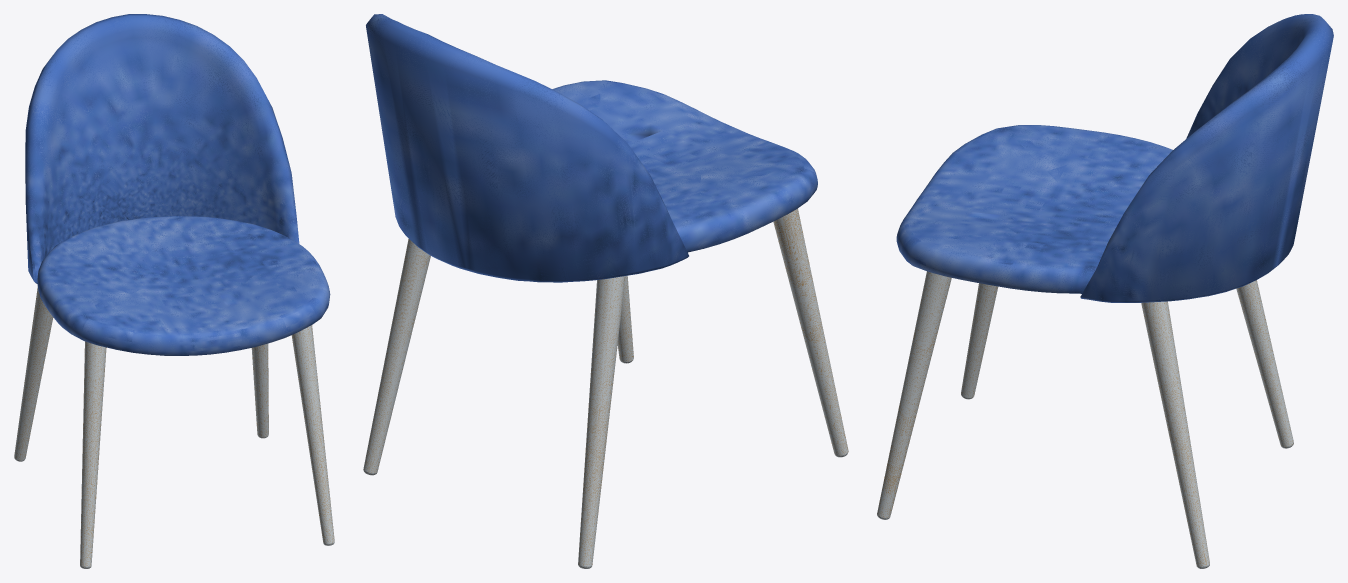
The model's file is Chair2 Blue.fbx.
3 views of the same model, side by side, from view 1: azimuth 30°, elevation 25°; view 2: azimuth 150°, elevation 25°; view 3: azimuth 270°, elevation 25° (orthographic). The views are drawn at different scales.
Parts seen in each view (by area): view 1: instance_0, instance_0.008, instance_0.003, instance_0.004, instance_0.005; view 2: instance_0, instance_0.004, instance_0.008, instance_0.005, instance_0.003; view 3: instance_0, instance_0.005, instance_0.003, instance_0.004, instance_0.008.
Boxes of the visible parts, x1=… form: instance_0: x1=25, y1=14, x2=330, y2=355; instance_0.008: x1=80, y1=341, x2=106, y2=566; instance_0.003: x1=291, y1=325, x2=334, y2=543; instance_0.004: x1=14, y1=286, x2=53, y2=460; instance_0.005: x1=251, y1=343, x2=268, y2=437; instance_0: x1=366, y1=14, x2=817, y2=282; instance_0.004: x1=578, y1=276, x2=625, y2=566; instance_0.008: x1=773, y1=208, x2=848, y2=455; instance_0.005: x1=363, y1=239, x2=430, y2=472; instance_0.003: x1=617, y1=275, x2=633, y2=361; instance_0: x1=896, y1=14, x2=1333, y2=302; instance_0.005: x1=1141, y1=301, x2=1209, y2=566; instance_0.003: x1=877, y1=271, x2=951, y2=517; instance_0.004: x1=1236, y1=280, x2=1293, y2=446; instance_0.008: x1=961, y1=283, x2=998, y2=397.
Bounding box in the file's own units: 88.27 × 120 × 103.
